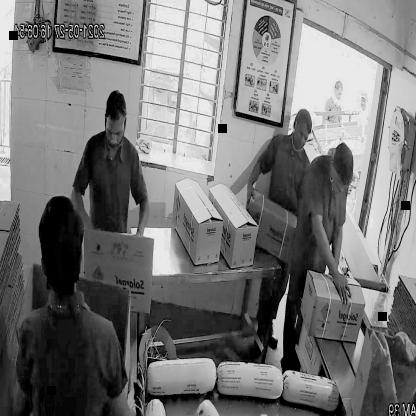no_goggles: (101, 121, 127, 148)
